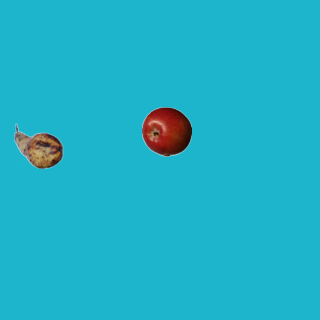Apple Braeburn: (141, 106, 191, 156)
Pear Abate: (13, 121, 63, 171)
